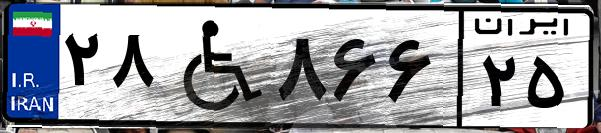2: (57, 26, 110, 100), (475, 38, 525, 113)
5: (525, 38, 570, 115)
6: (385, 28, 445, 110), (330, 28, 385, 110)
8: (270, 28, 330, 110), (110, 28, 158, 98)
ژ (معلولین و جانبازان): (158, 12, 270, 120)
